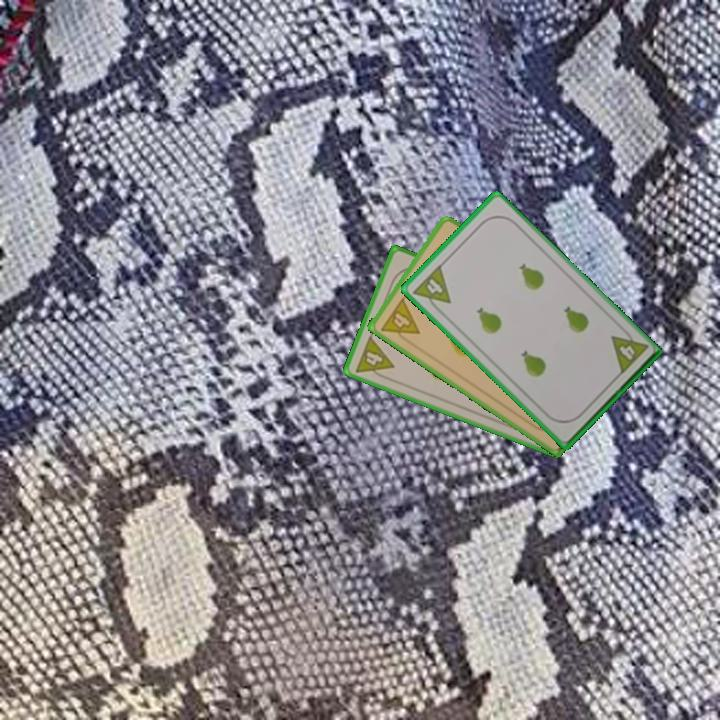4p: (409, 261, 453, 316), (377, 294, 422, 347), (351, 332, 397, 383), (608, 323, 650, 378)
